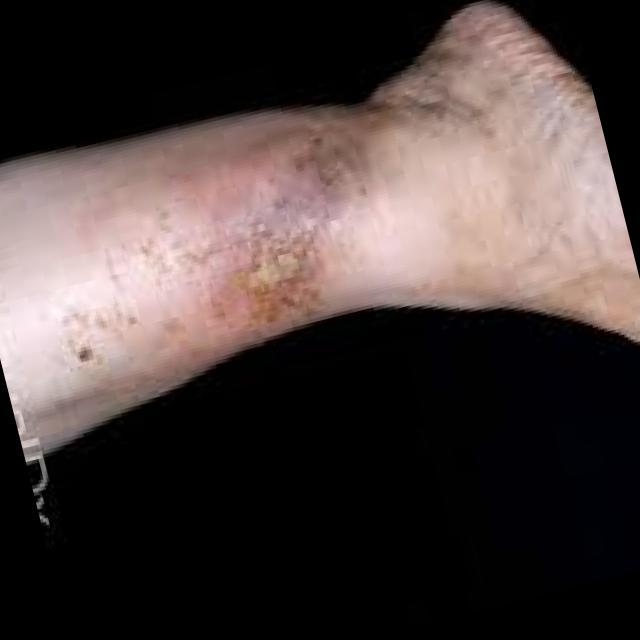Eczema: (198, 154, 361, 338)
